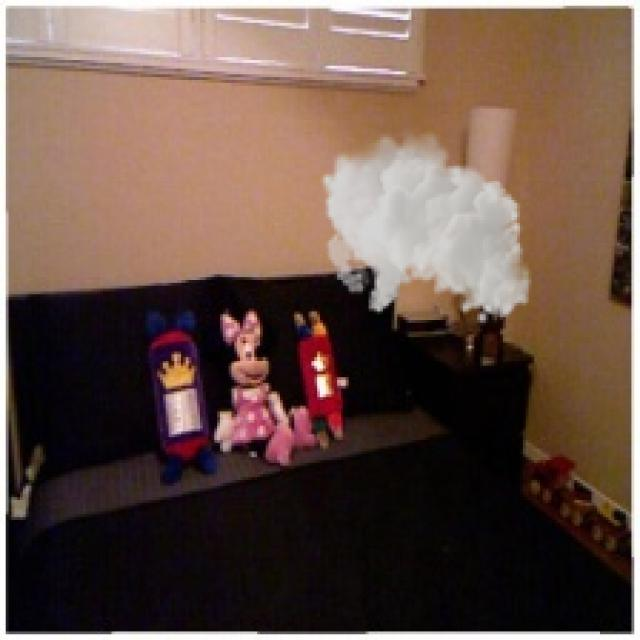smoke: (320, 126, 531, 326)
